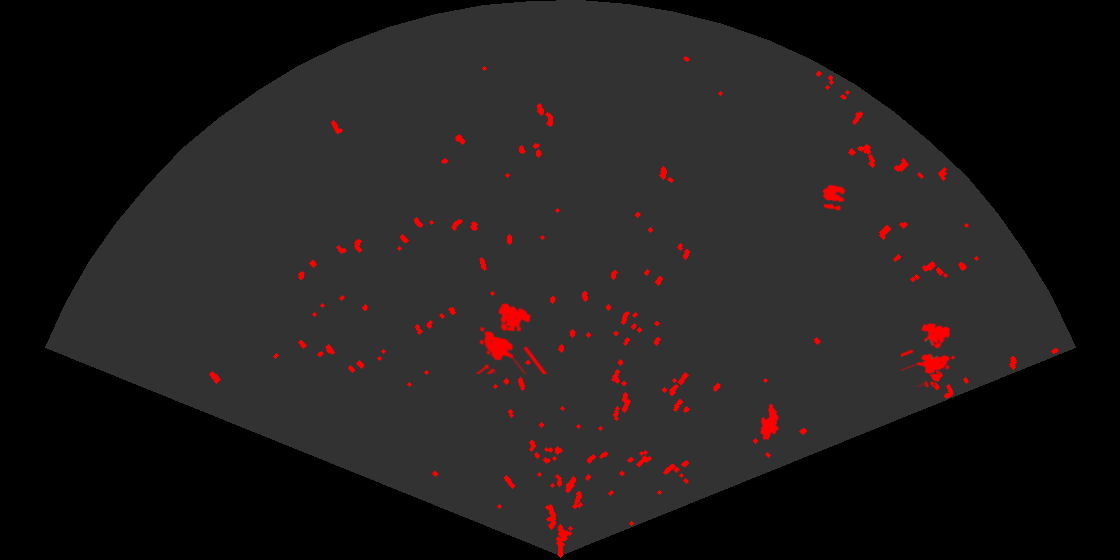AUV: (758, 402, 779, 442)
ball: (821, 183, 847, 212)
cage: (474, 301, 549, 374), (901, 321, 957, 387)
